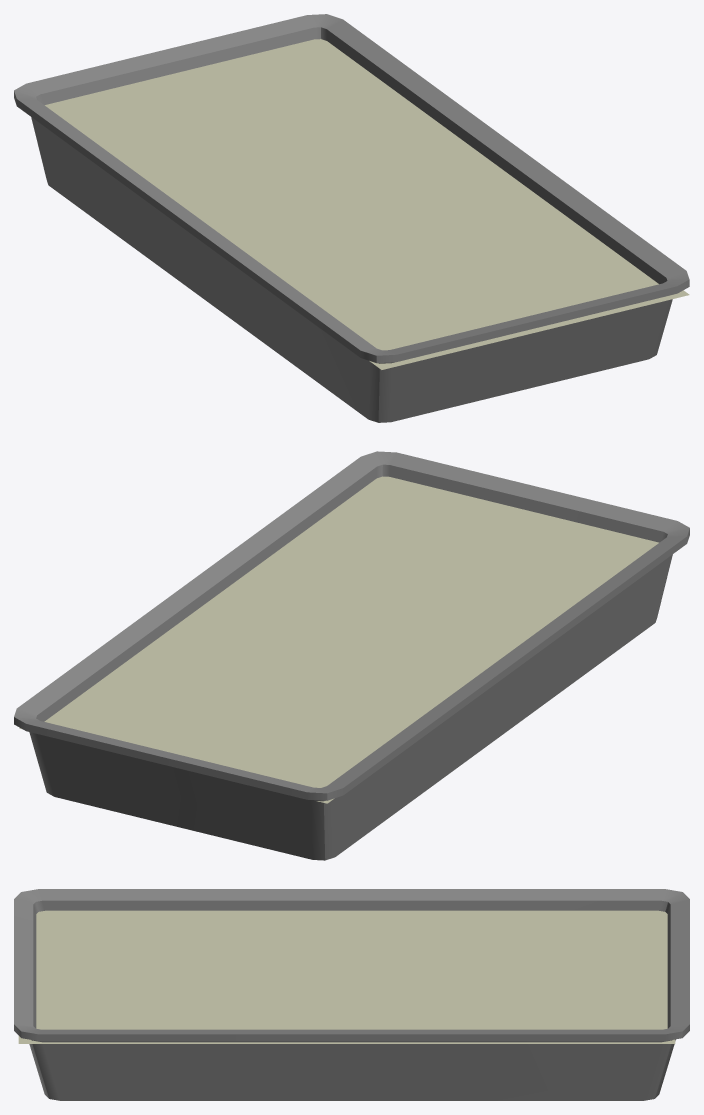
File: HeatupTray.fbx
3 renders of one model, top to bottom at view 1: azimuth 30°, elevation 25°; view 2: azimuth 150°, elevation 25°; view 3: azimuth 270°, elevation 25°, orthographic. The views are drawn at different scales.
Visible parts, largest first — view 1: TrayContent, Serving_Tray; view 2: TrayContent, Serving_Tray; view 3: TrayContent, Serving_Tray.
Part boxes in pixels (bbox=[...]): TrayContent: bbox=[45, 39, 689, 369]; Serving_Tray: bbox=[14, 14, 689, 422]; TrayContent: bbox=[19, 476, 658, 803]; Serving_Tray: bbox=[14, 451, 689, 860]; TrayContent: bbox=[18, 910, 675, 1043]; Serving_Tray: bbox=[14, 889, 689, 1100].
Bounding box in the file's own units: 46.43 × 11.23 × 91.32.
